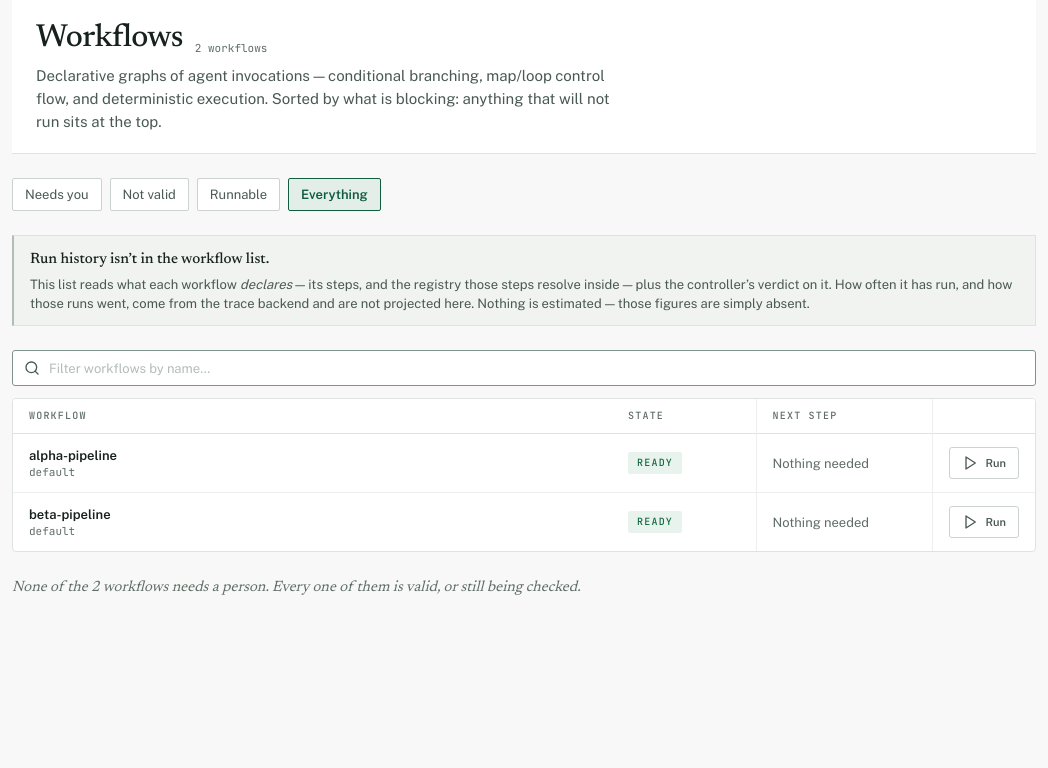
WorkflowsPage (m67.9) › filters workflows by name
Expected: the text "alpha-pipeline" is shown, x1=29 y1=448 x2=117 y2=463
Step 1. Type "beta" into the field named "Filter list" → point(524, 368), box x1=12 y1=350 x2=1036 y2=386
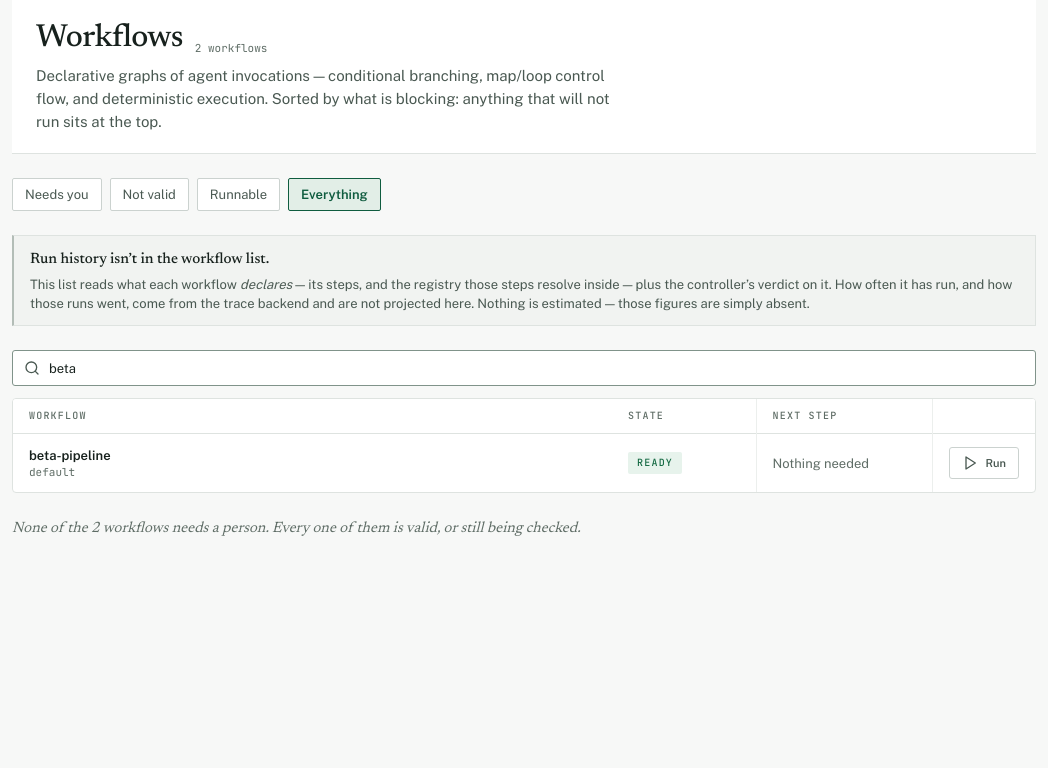
Expected: the text "beta-pipeline" is shown, x1=29 y1=448 x2=111 y2=463
Now the text "alpha-pipeline" is gone
